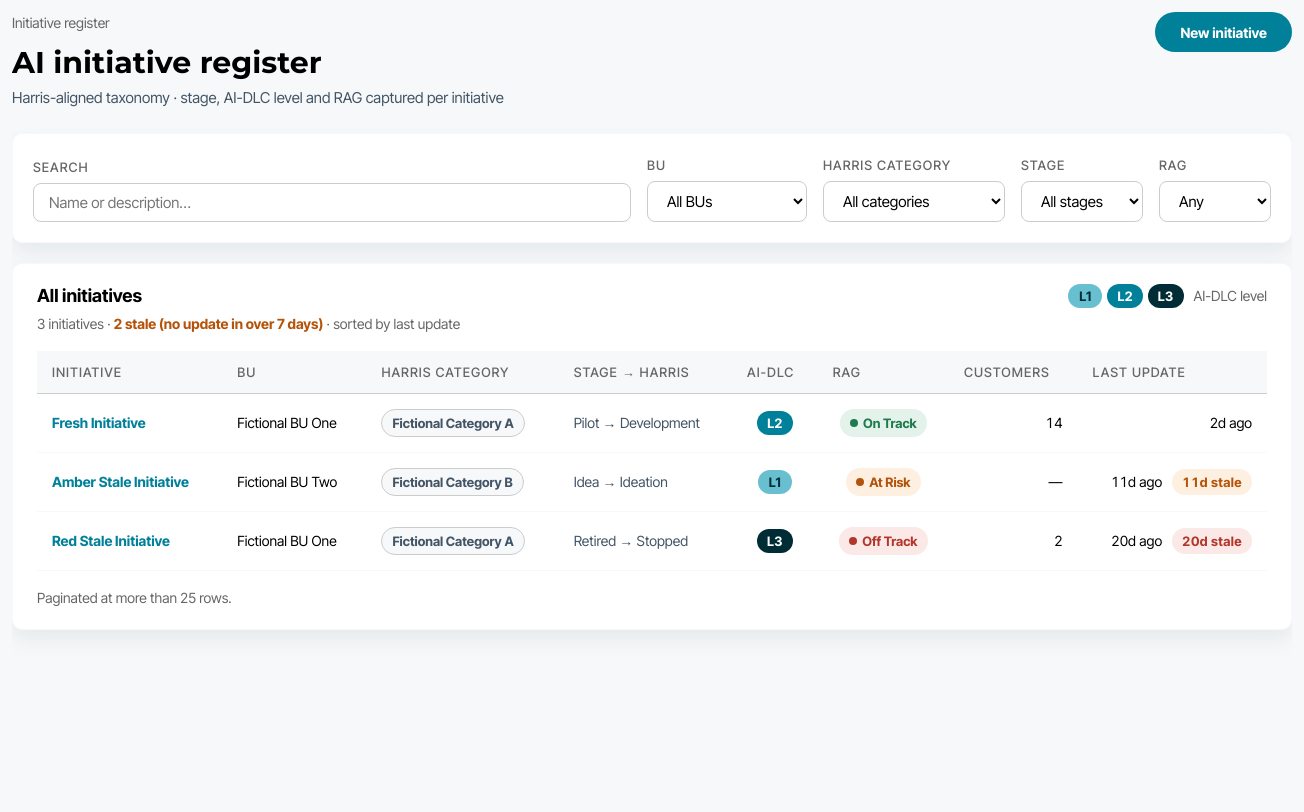
Test: RegisterListScreen (HAP-13; register-list mockup) › applies the RAG filter client-side (the backend has no RAG facet)
expect the button "Fresh Initiative" is shown: met, box [52,414,146,431]
Step 1. Select "Off Track" in the dropdown labelled "RAG" → (1215, 202), box [1159,181,1271,222]
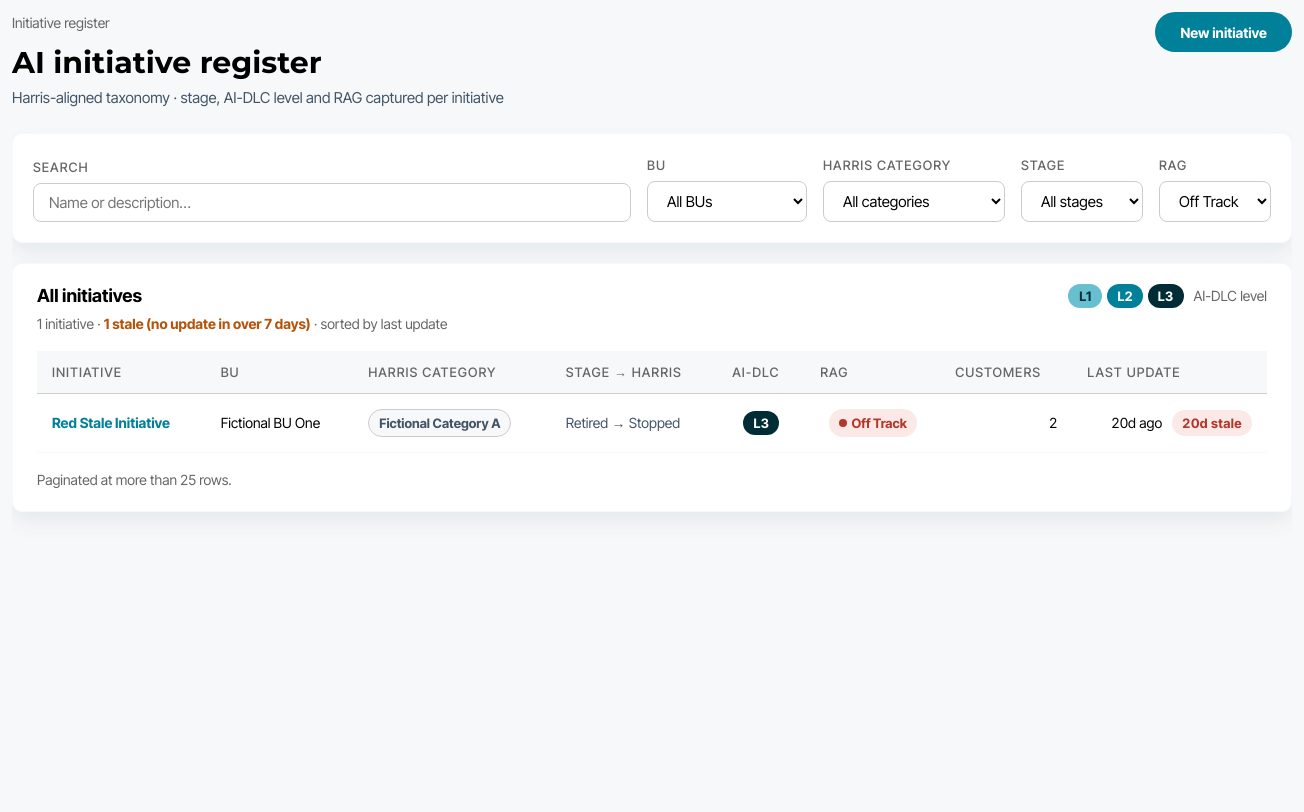
expect the button "Red Stale Initiative" is shown: met, box [52,414,170,431]
expect the button "Fresh Initiative" is gone: met
expect the button "Amber Stale Initiative" is gone: met
